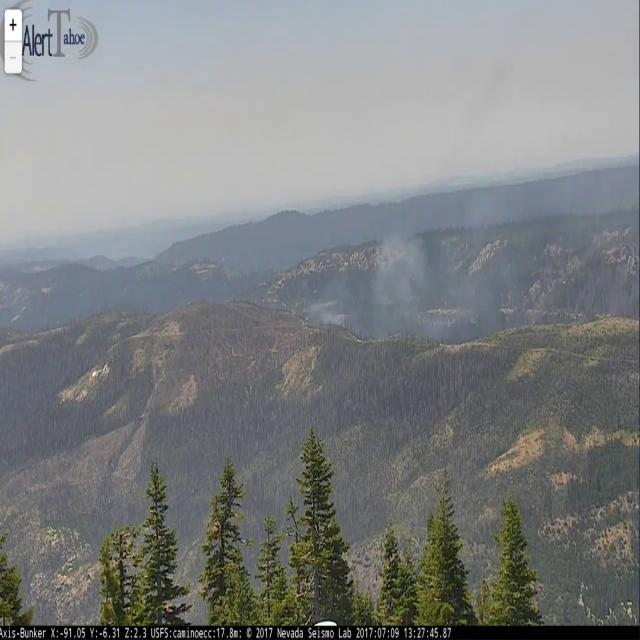smoke: (296, 202, 436, 353)
